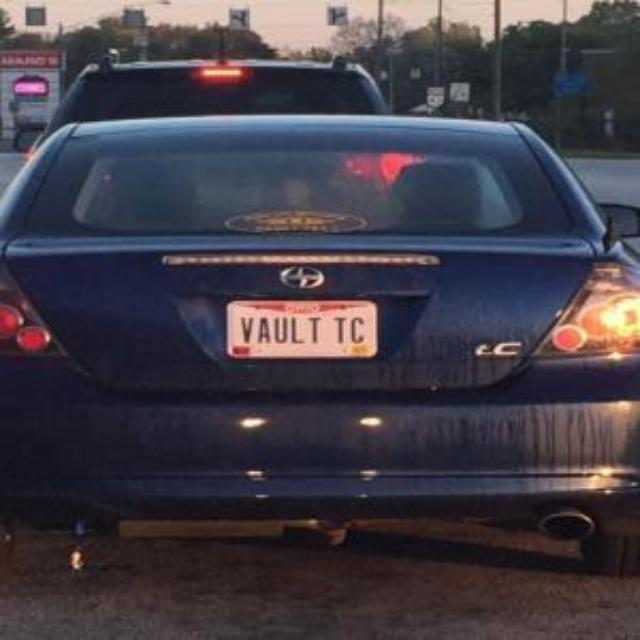License Plate: (230, 302, 378, 361)
